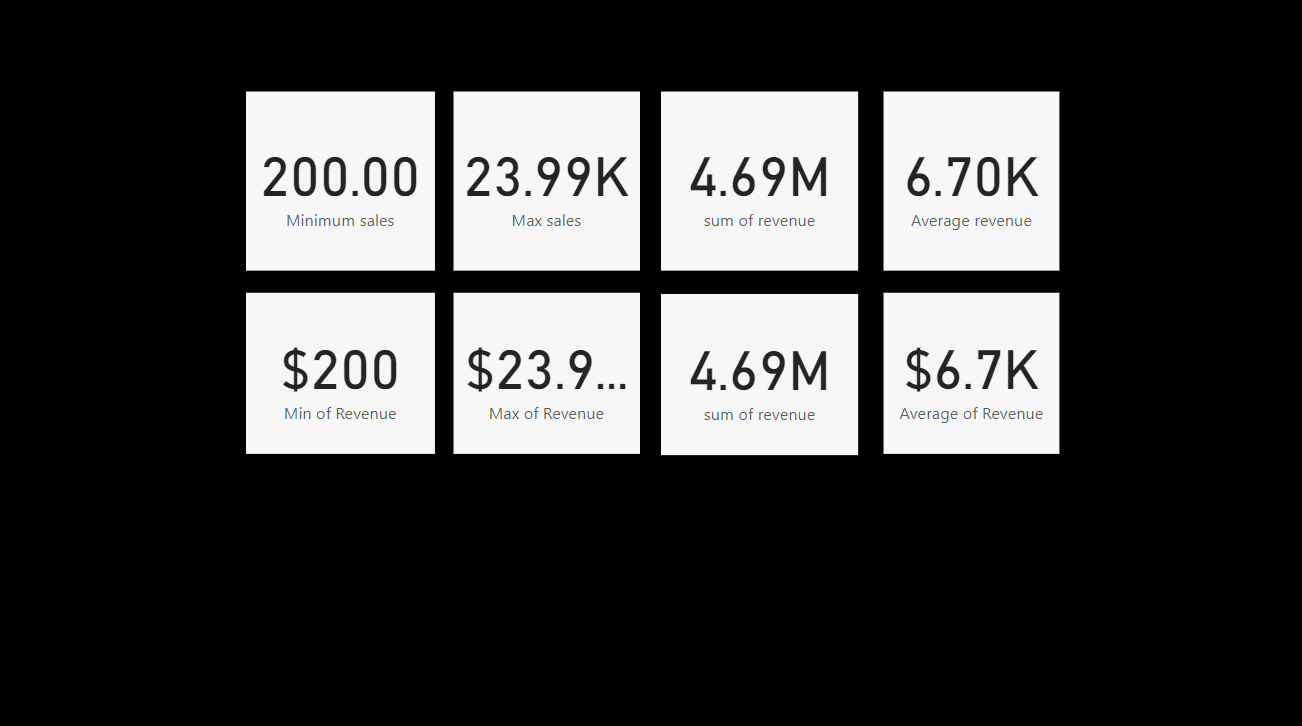

What the dashboard file says about the page in this screenshot:
{"tool":"powerbi","page":{"name":"Page 2","canvas":[1280,720],"ordinal":1},"visuals":[{"type":"card","fields":{"Values":["Orders.Minimum sales"]},"box":[244.5,95.3,184.6,174.8],"z":0},{"type":"card","fields":{"Values":["Min(Orders.Revenue)"]},"box":[244.5,292.2,184.6,157.7],"z":1000},{"type":"card","fields":{"Values":["Orders.Max sales"]},"box":[447.4,95.3,182.1,174.8],"z":2000},{"type":"card","fields":{"Values":["Orders.sum of revenue"]},"box":[650.3,95.3,193.1,174.8],"z":3000},{"type":"card","fields":{"Values":["Max(Orders.Revenue)"]},"box":[447.4,292.2,182.1,157.7],"z":4000},{"type":"card","fields":{"Values":["Orders.sum of revenue"]},"box":[650.3,293.4,193.1,157.7],"z":5000},{"type":"card","fields":{"Values":["Orders.Averasge revenue"]},"box":[867.9,95.3,172.4,174.8],"z":6000},{"type":"card","fields":{"Values":["Avg(Orders.Revenue)"]},"box":[867.9,292.2,172.4,157.7],"z":7000}]}

Visuals, with their boxes in screenshot pixels (x1, y1, x2, y2), scaled from the page's 1280x720 canvas onto the 1302x726 screenshot:
card - Orders.Minimum sales: bbox(249, 96, 436, 272)
card - Min(Orders.Revenue): bbox(249, 295, 436, 454)
card - Orders.Max sales: bbox(455, 96, 640, 272)
card - Orders.sum of revenue: bbox(661, 96, 858, 272)
card - Max(Orders.Revenue): bbox(455, 295, 640, 454)
card - Orders.sum of revenue: bbox(661, 296, 858, 455)
card - Orders.Averasge revenue: bbox(883, 96, 1058, 272)
card - Avg(Orders.Revenue): bbox(883, 295, 1058, 454)
